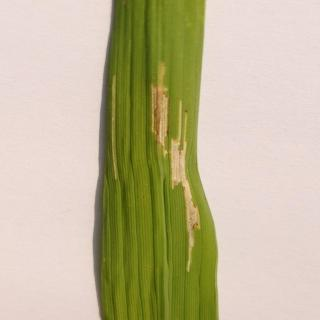Hawar-Daun: (138, 44, 224, 308)
